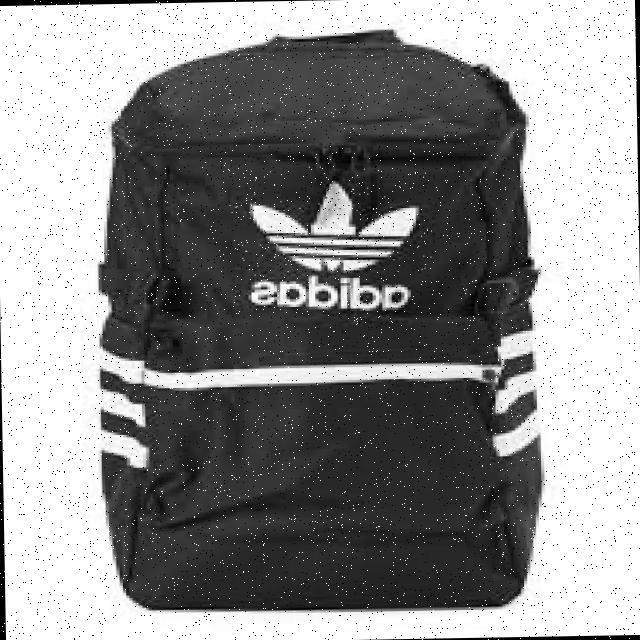Adidas: (227, 165, 439, 278)
